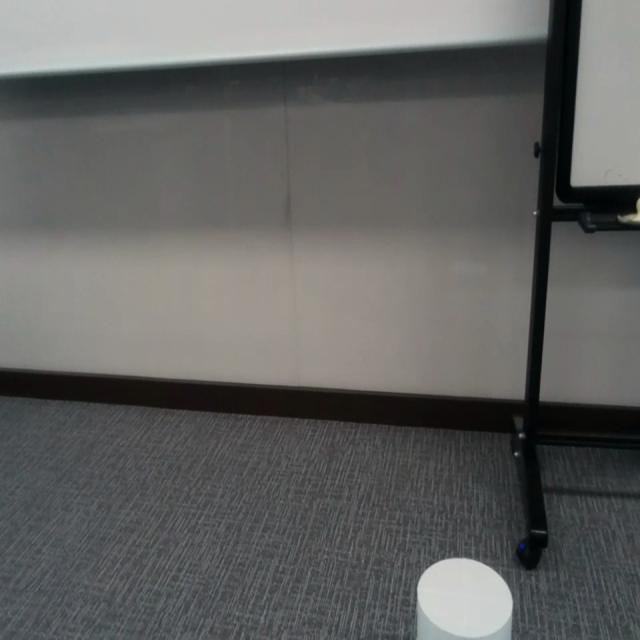cylinder: (414, 554, 513, 640)
